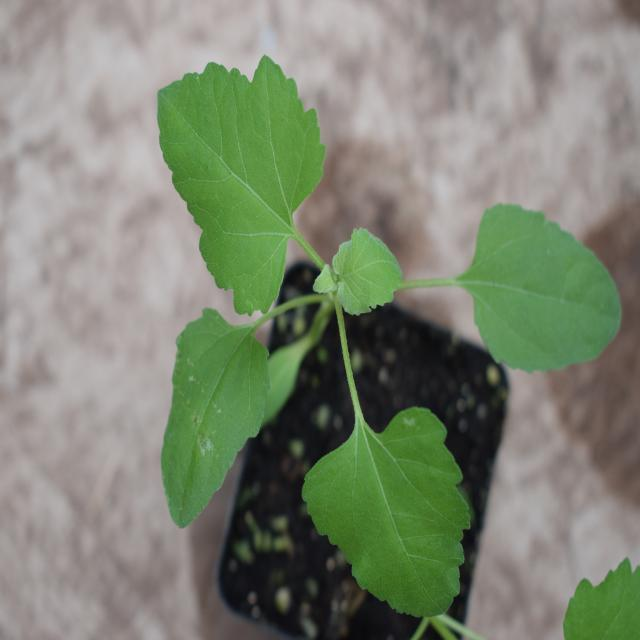cocklebur: (144, 38, 592, 589)
